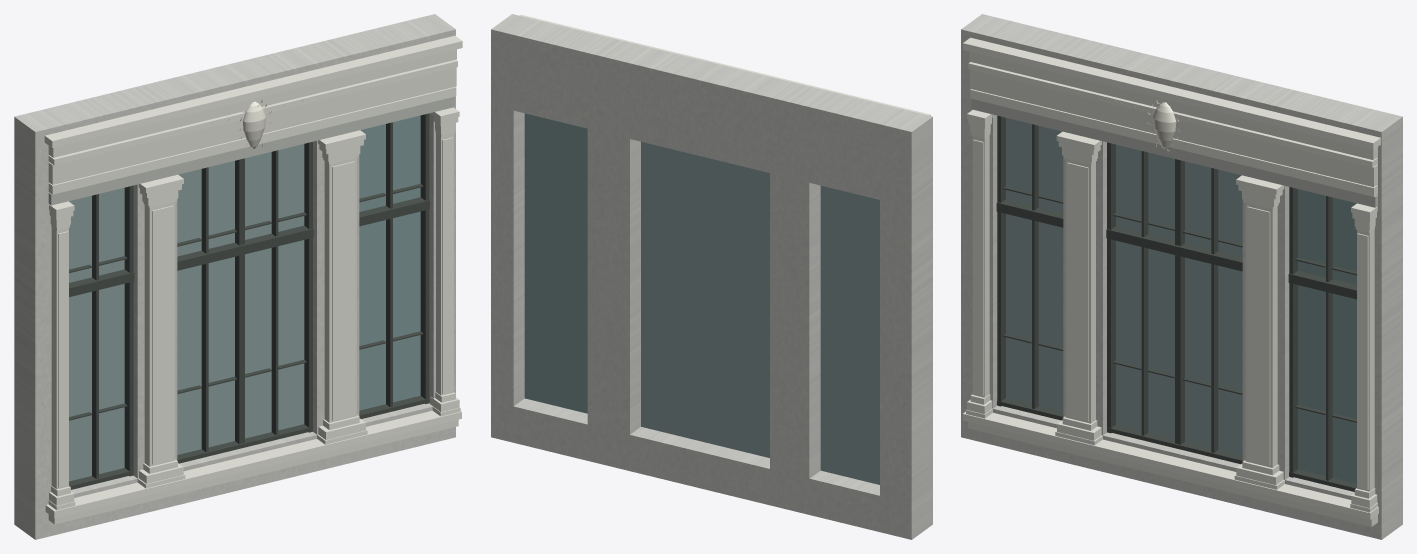
Rendered from mingzhe-window-near.glb.
3 views of the same model, side by side, from view 1: azimuth 30°, elevation 25°; view 2: azimuth 150°, elevation 25°; view 3: azimuth 330°, elevation 25° (orthographic).
Parts seen in each view (by area): view 1: 明哲楼南面三联长窗与盾形窗饰; view 2: 明哲楼南面三联长窗与盾形窗饰; view 3: 明哲楼南面三联长窗与盾形窗饰.
Part boxes in pixels (bbox=[...]): 明哲楼南面三联长窗与盾形窗饰: bbox=[14, 14, 462, 539]; 明哲楼南面三联长窗与盾形窗饰: bbox=[491, 14, 932, 539]; 明哲楼南面三联长窗与盾形窗饰: bbox=[961, 14, 1402, 539].
Size of the model in its own units: 3.67 by 3.4 by 0.491.
10 materials, 1 textured.
